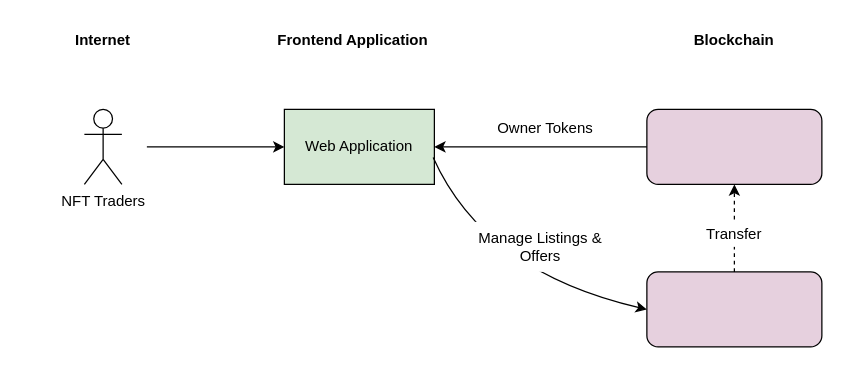
This 844x369 diagram has some shape labels left out. The centre of each missing label's shape, as x and y in pixels:
"Exchange Smart Contract" goes at point (734, 309).
"NFT Smart Contract" goes at point (734, 146).
